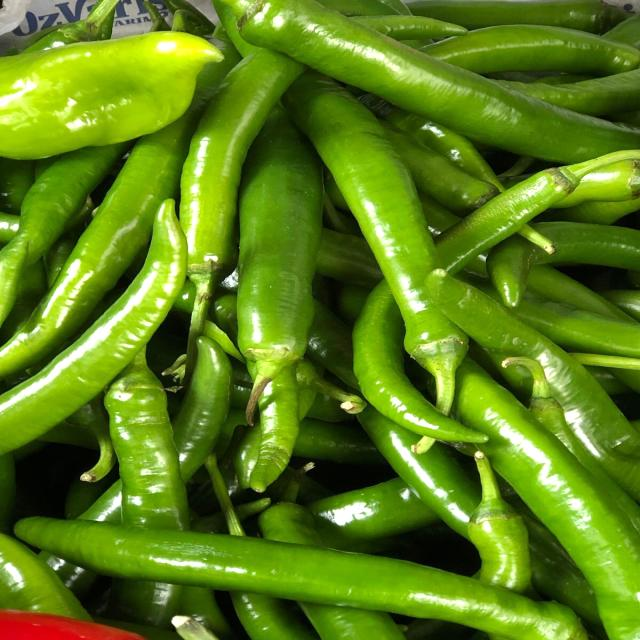green pepper: (275, 61, 497, 448), (15, 499, 597, 639)
